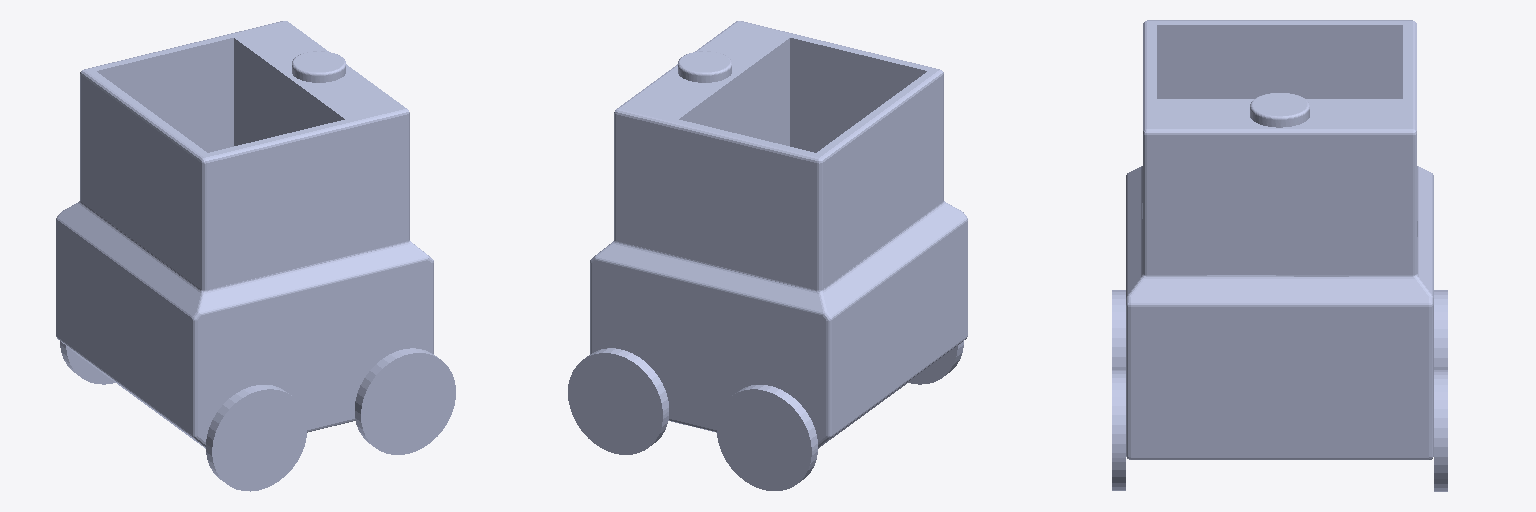
robot.urdf — model_1_demo_2:
<?xml version="1.0" encoding="utf-8"?>
<!-- This URDF was automatically created by SolidWorks to URDF Exporter! Originally created by [author] ([email redacted]) 
     Commit Version: 1.6.0-4-g7f85cfe  Build Version: 1.6.7995.38578
     For more information, please see http://wiki.ros.org/sw_urdf_exporter -->
<robot
  name="model_1_demo_2">
  <link
    name="base_link">
    <inertial>
      <origin
        xyz="0.00842489194041066 0 0.201251900544968"
        rpy="0 0 0" />
      <mass
        value="13.9592816305195" />
      <inertia
        ixx="0.239628694042062"
        ixy="-6.39036733886322E-11"
        ixz="-0.0223151700721268"
        iyy="0.240967965601768"
        iyz="1.41802447026488E-17"
        izz="0.265624795109163" />
    </inertial>
    <visual>
      <origin
        xyz="0 0 0"
        rpy="0 0 0" />
      <geometry>
        <mesh
          filename="package://model_1_demo_2/meshes/base_link.STL" />
      </geometry>
      <material
        name="">
        <color
          rgba="0.792156862745098 0.819607843137255 0.933333333333333 1" />
      </material>
    </visual>
    <collision>
      <origin
        xyz="0 0 0"
        rpy="0 0 0" />
      <geometry>
        <mesh
          filename="package://model_1_demo_2/meshes/base_link.STL" />
      </geometry>
    </collision>
  </link>
  <link
    name="forwardleft">
    <inertial>
      <origin
        xyz="1.38777878078145E-17 -0.00757672081956784 0"
        rpy="0 0 0" />
      <mass
        value="3.5" />
      <inertia
        ixx="0.00020146248159477"
        ixy="-6.74968403143029E-22"
        ixz="4.19345258499394E-36"
        iyy="0.000395341114732814"
        iyz="0"
        izz="0.00020146248159477" />
    </inertial>
    <visual>
      <origin
        xyz="0 0 0"
        rpy="0 0 0" />
      <geometry>
        <mesh
          filename="package://model_1_demo_2/meshes/forwardleft.STL" />
      </geometry>
      <material
        name="">
        <color
          rgba="0.792156862745098 0.819607843137255 0.933333333333333 1" />
      </material>
    </visual>
    <collision>
      <origin
        xyz="0 0 0"
        rpy="0 0 0" />
      <geometry>
        <mesh
          filename="package://model_1_demo_2/meshes/forwardleft.STL" />
      </geometry>
    </collision>
  </link>
  <joint
    name="leftforjoint"
    type="continuous">
    <origin
      xyz="0.10396 0.1775 0.015"
      rpy="0 0 0" />
    <parent
      link="base_link" />
    <child
      link="forwardleft" />
    <axis
      xyz="0 -1 0" />
    <limit
      effort="1"
      velocity="1" />
  </joint>
  <link
    name="backleft">
    <inertial>
      <origin
        xyz="2.77555756156289E-17 -0.00757672081956784 0"
        rpy="0 0 0" />
      <mass
        value="3.5000" />
      <inertia
        ixx="0.00020146248159477"
        ixy="-6.84894570493665E-22"
        ixz="4.19345258499394E-36"
        iyy="0.000395341114732814"
        iyz="0"
        izz="0.00020146248159477" />
    </inertial>
    <visual>
      <origin
        xyz="0 0 0"
        rpy="0 0 0" />
      <geometry>
        <mesh
          filename="package://model_1_demo_2/meshes/backleft.STL" />
      </geometry>
      <material
        name="">
        <color
          rgba="0.792156862745098 0.819607843137255 0.933333333333333 1" />
      </material>
    </visual>
    <collision>
      <origin
        xyz="0 0 0"
        rpy="0 0 0" />
      <geometry>
        <mesh
          filename="package://model_1_demo_2/meshes/backleft.STL" />
      </geometry>
    </collision>
  </link>
  <joint
    name="leftbackjoint"
    type="continuous">
    <origin
      xyz="-0.096036 0.1775 0.015"
      rpy="0 0 0" />
    <parent
      link="base_link" />
    <child
      link="backleft" />
    <axis
      xyz="0 -1 0" />
    <limit
      effort="1"
      velocity="1" />
  </joint>
  <link
    name="forwardright">
    <inertial>
      <origin
        xyz="-1.73472347597681E-17 0.00757672081956781 0"
        rpy="0 0 0" />
      <mass
        value="3.500" />
      <inertia
        ixx="0.00020146248159477"
        ixy="3.69190351538931E-20"
        ixz="-2.32986567076784E-21"
        iyy="0.000395341114732815"
        iyz="-1.10312717374524E-23"
        izz="0.00020146248159477" />
    </inertial>
    <visual>
      <origin
        xyz="0 0 0"
        rpy="0 0 0" />
      <geometry>
        <mesh
          filename="package://model_1_demo_2/meshes/forwardright.STL" />
      </geometry>
      <material
        name="">
        <color
          rgba="0.792156862745098 0.819607843137255 0.933333333333333 1" />
      </material>
    </visual>
    <collision>
      <origin
        xyz="0 0 0"
        rpy="0 0 0" />
      <geometry>
        <mesh
          filename="package://model_1_demo_2/meshes/forwardright.STL" />
      </geometry>
    </collision>
  </link>
  <joint
    name="rightforjoint"
    type="continuous">
    <origin
      xyz="0.10396 -0.1775 0.015"
      rpy="0 0 0" />
    <parent
      link="base_link" />
    <child
      link="forwardright" />
    <axis
      xyz="0 -1 0" />
    <limit
      effort="1"
      velocity="1" />
  </joint>
  <link
    name="backright">
    <inertial>
      <origin
        xyz="0 0.00757672081956781 0"
        rpy="0 0 0" />
      <mass
        value="3.50000" />
      <inertia
        ixx="0.00020146248159477"
        ixy="3.79751267801208E-20"
        ixz="3.70742350546266E-21"
        iyy="0.000395341114732814"
        iyz="7.94370055212518E-22"
        izz="0.00020146248159477" />
    </inertial>
    <visual>
      <origin
        xyz="0 0 0"
        rpy="0 0 0" />
      <geometry>
        <mesh
          filename="package://model_1_demo_2/meshes/backright.STL" />
      </geometry>
      <material
        name="">
        <color
          rgba="0.792156862745098 0.819607843137255 0.933333333333333 1" />
      </material>
    </visual>
    <collision>
      <origin
        xyz="0 0 0"
        rpy="0 0 0" />
      <geometry>
        <mesh
          filename="package://model_1_demo_2/meshes/backright.STL" />
      </geometry>
    </collision>
  </link>
  <joint
    name="rightbackjoint"
    type="continuous">
    <origin
      xyz="-0.096036 -0.1775 0.015"
      rpy="0 0 0" />
    <parent
      link="base_link" />
    <child
      link="backright" />
    <axis
      xyz="0 -1 0" />
    <limit
      effort="1"
      velocity="1" />
  </joint>
  <link
    name="lidar">
    <inertial>
      <origin
        xyz="0 5.55111512312578E-17 0.0014470438358215"
        rpy="0 0 0" />
      <mass
        value="0.0382236882025974" />
      <inertia
        ixx="1.01480622433405E-05"
        ixy="0"
        ixz="4.54129595568349E-38"
        iyy="1.01480622433405E-05"
        iyz="1.72090096232407E-22"
        izz="1.93916409224957E-05" />
    </inertial>
    <visual>
      <origin
        xyz="0 0 0"
        rpy="0 0 0" />
      <geometry>
        <mesh
          filename="package://model_1_demo_2/meshes/lidar.STL" />
      </geometry>
      <material
        name="">
        <color
          rgba="0.792156862745098 0.819607843137255 0.933333333333333 1" />
      </material>
    </visual>
    <collision>
      <origin
        xyz="0 0 0"
        rpy="0 0 0" />
      <geometry>
        <mesh
          filename="package://model_1_demo_2/meshes/lidar.STL" />
      </geometry>
    </collision>
  </link>
  <joint
    name="lidarfix"
    type="fixed">
    <origin
      xyz="0.086054 0 0.3795"
      rpy="0 0 0" />
    <parent
      link="base_link" />
    <child
      link="lidar" />
    <axis
      xyz="0 0 0" />
  </joint>
  <gazebo reference="lidar">
    <sensor type="ray" name="laser">
        <pose>0 0 0 0 0 0</pose>
        <visualize>true</visualize>
        <update_rate>40</update_rate>
        <ray>
            <scan>
                <horizontal>
                    <samples>720</samples>
                    <resolution>1</resolution>
                    <min_angle>-1.578</min_angle>
                    <max_angle>1.578</max_angle>
                </horizontal>
            </scan>
            <range>
                <min>0.1</min>
                <max>5</max>
                <resolution>0.1</resolution>
            </range>
        </ray>
        <plugin name="Lidar" filename="libgazebo_ros_laser.so">
            <topicName>/scan</topicName>
            <frameName>lidar</frameName>
        </plugin>
    </sensor>
  </gazebo>


    <gazebo>
      <plugin name="skid_steer_drive_controller" filename="libgazebo_ros_skid_steer_drive.so">
          <updateRate>10.0</updateRate>
          <robotNamespace>/</robotNamespace>
          <leftFrontJoint>leftforjoint</leftFrontJoint>
          <rightFrontJoint>rightforjoint</rightFrontJoint>
          <leftRearJoint>leftbackjoint</leftRearJoint>
          <rightRearJoint>rightbackjoint</rightRearJoint>
          <wheelSeparation>0.20792</wheelSeparation>
          <wheelDiameter>0.128</wheelDiameter>
          <robotBaseFrame>base_link</robotBaseFrame>
          <torque>10</torque>
    
          <topicName>cmd_vel</topicName>
          <odometryTopic>odom</odometryTopic>
          <odometryFrame>odom</odometryFrame>
    
          <commandTopic>cmd_vel</commandTopic>
          <topic_name_twist>cmd_vel</topic_name_twist>
          <topic_name_odometry>odom</topic_name_odometry>
          <topic_name_joint>joint</topic_name_joint>
    
          <broadcastTF>true</broadcastTF>
    
          <covariance_x>0.0001</covariance_x>
          <covariance_y>0.0001</covariance_y>
          <covariance_yaw>0.01</covariance_yaw>
    
      </plugin>
    
    </gazebo>
    <!-- <gazebo>
      <plugin name="joint_state_publisher"
              filename="libgazebo_ros_joint_state_publisher.so">
          <jointName>front_caster_of_wheel_joint, front_wheel_joint</jointName>
      </plugin>
    </gazebo> -->





  <gazebo reference="base_link">
      <material>Gazebo/Black</material>
  </gazebo>

  <gazebo reference="lidar">
      <material>Gazebo/Blue</material>
  </gazebo>
    <!-- <gazebo reference="front_wheel">
      <material>Gazebo/Black</material>
    </gazebo>
    <gazebo reference="left_wheel">
      <material>Gazebo/Black</material>
    </gazebo>
    <gazebo reference="right_wheel">
      <material>Gazebo/Black</material>
    </gazebo> -->


</robot>

--- Render facts (derived) ---
Views: 3 orthographic renders of the robot side by side, from view 1: azimuth 30°, elevation 25°; view 2: azimuth 150°, elevation 25°; view 3: azimuth 270°, elevation 25°.
Robot: model_1_demo_2 — 6 links, 5 joints (4 continuous, 1 fixed); root link base_link; default pose: all joints at 0.
Links seen in each view (by area): view 1: base_link, backright, forwardright, lidar, backleft; view 2: base_link, backleft, forwardleft, lidar, backright; view 3: base_link, lidar, forwardleft, forwardright, backleft, backright.
Boxes of the visible links, x1=… form: base_link: x1=56, y1=21, x2=433, y2=448; backright: x1=206, y1=385, x2=306, y2=491; forwardright: x1=355, y1=348, x2=455, y2=454; lidar: x1=292, y1=51, x2=345, y2=82; backleft: x1=60, y1=341, x2=114, y2=384; base_link: x1=590, y1=21, x2=967, y2=448; backleft: x1=717, y1=385, x2=817, y2=490; forwardleft: x1=568, y1=348, x2=668, y2=454; lidar: x1=678, y1=51, x2=731, y2=82; backright: x1=909, y1=341, x2=963, y2=384; base_link: x1=1126, y1=20, x2=1433, y2=459; lidar: x1=1250, y1=93, x2=1309, y2=127; forwardleft: x1=1434, y1=370, x2=1447, y2=491; forwardright: x1=1112, y1=370, x2=1125, y2=490; backleft: x1=1434, y1=290, x2=1447, y2=369; backright: x1=1112, y1=290, x2=1125, y2=369.
Size in the robot's own frame: 0.344 by 0.355 by 0.436 metres.
6 mesh visuals loaded from 6 distinct referenced files (6 binary STL).
